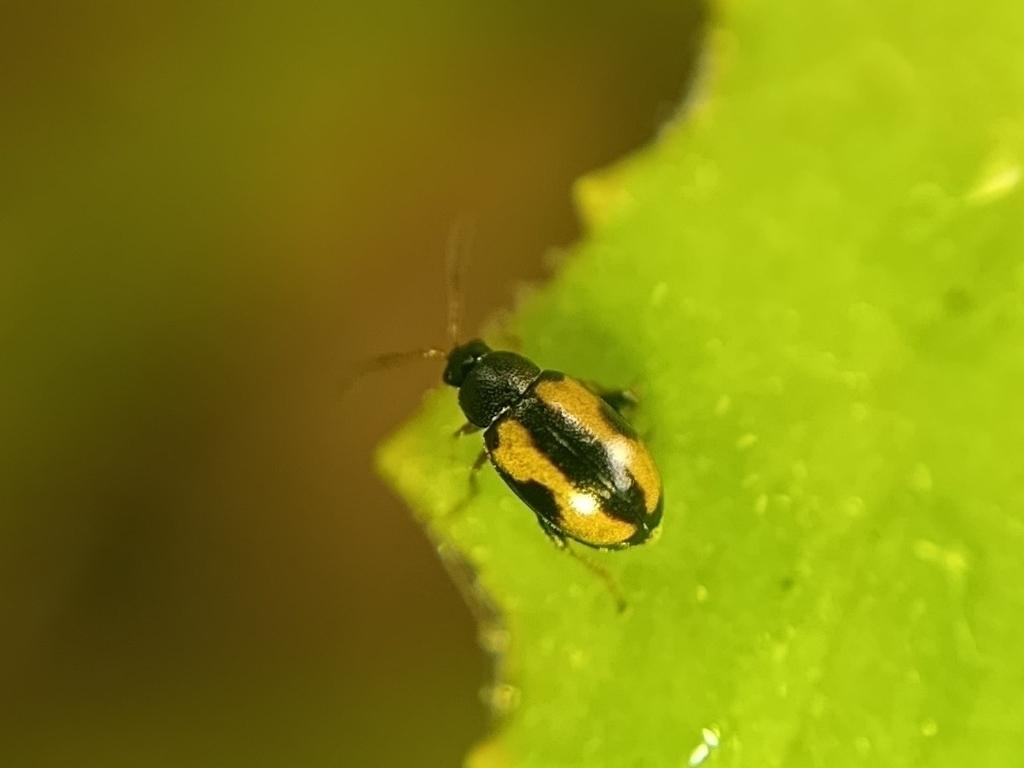flea_beetle: (319, 213, 761, 616)
